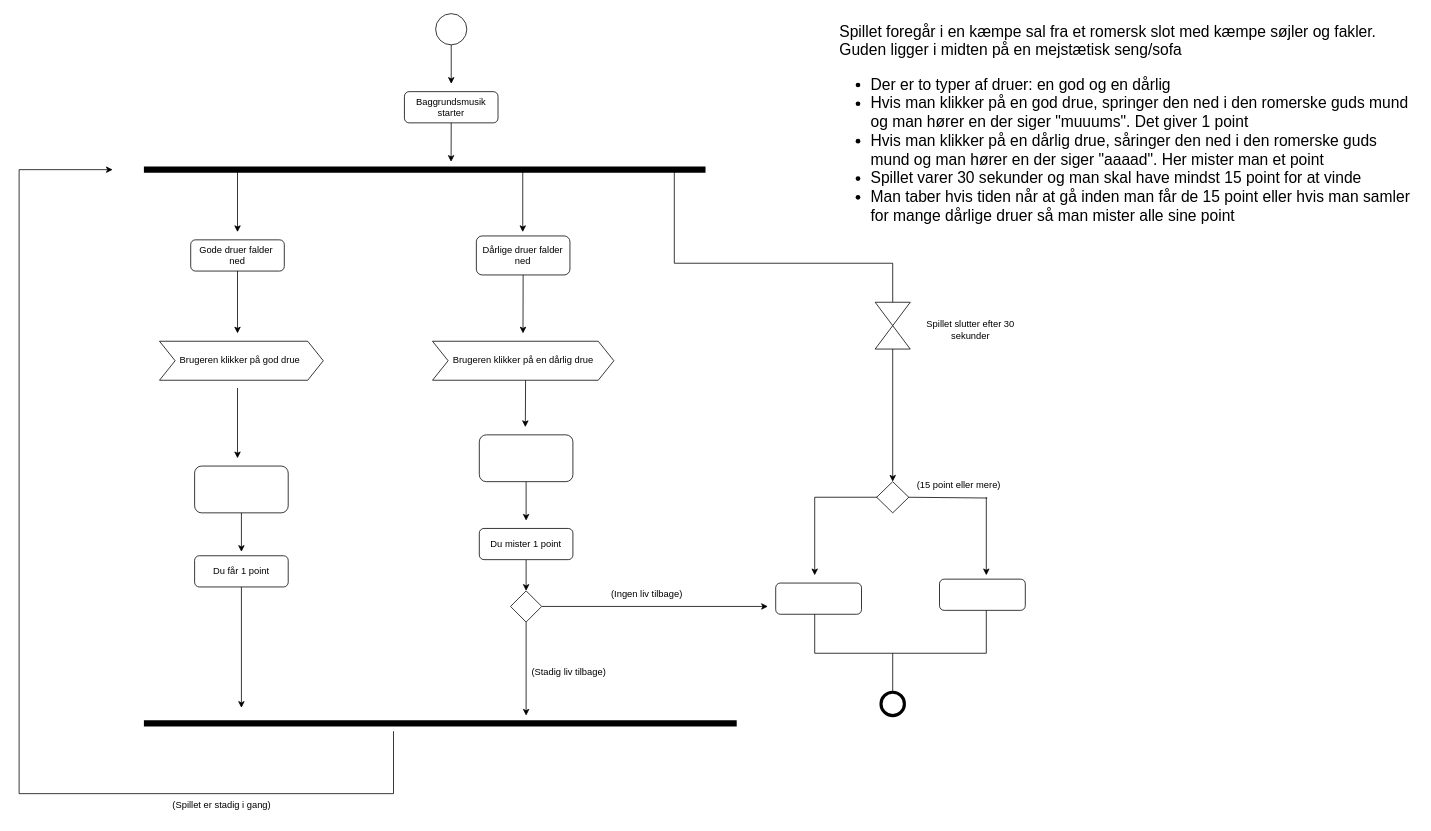
This 1431x831 diagram has some shape labels left out. Here are the shapes that lost their labels. From the top down, the centre of each, then its label:
the point at 526,458: Dårlig drue rammer hans mund Man hører "ad" lyd
the point at 241,489: God drue rammer hans mund Man hører "mums" lyd
the point at 818,598: Game over
the point at 982,594: Completed
